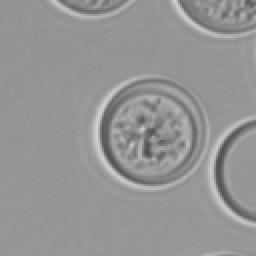picoshell: (94, 78, 208, 188), (206, 118, 254, 228), (170, 0, 254, 36), (50, 0, 134, 18)
